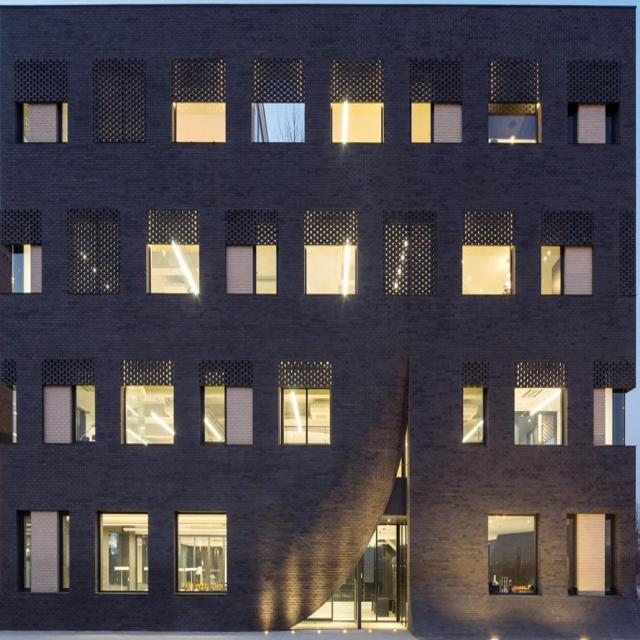door: (304, 526, 408, 624)
wall: (0, 5, 640, 639)
windows: (99, 514, 148, 596), (489, 515, 536, 593), (179, 512, 226, 589), (515, 384, 567, 444), (124, 386, 176, 446), (284, 385, 330, 447), (149, 242, 200, 295), (462, 244, 511, 296), (576, 512, 606, 595), (540, 248, 594, 292), (172, 101, 227, 144), (332, 102, 382, 147), (304, 243, 354, 288), (251, 102, 304, 144), (592, 386, 627, 446), (22, 102, 69, 140), (569, 106, 612, 146), (493, 112, 538, 143), (202, 388, 225, 442), (73, 386, 94, 441), (253, 242, 275, 294), (464, 386, 481, 444), (409, 104, 432, 142), (24, 514, 34, 592), (61, 516, 70, 589), (12, 246, 22, 296)
